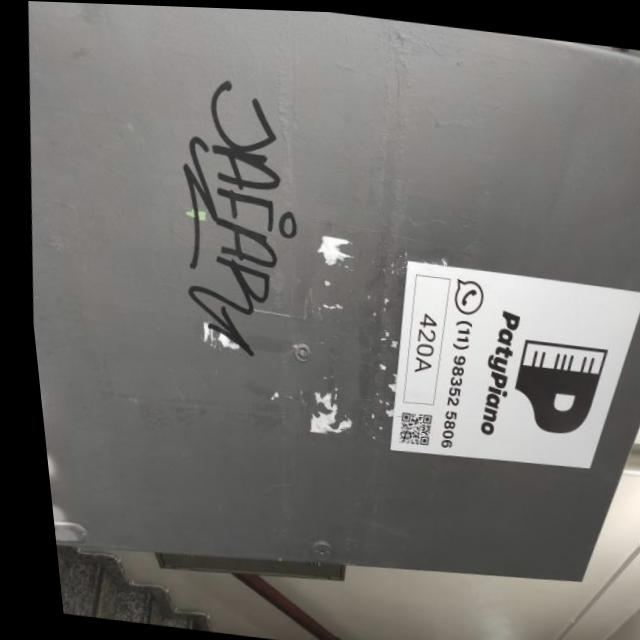qrcode: (386, 409, 425, 445)
